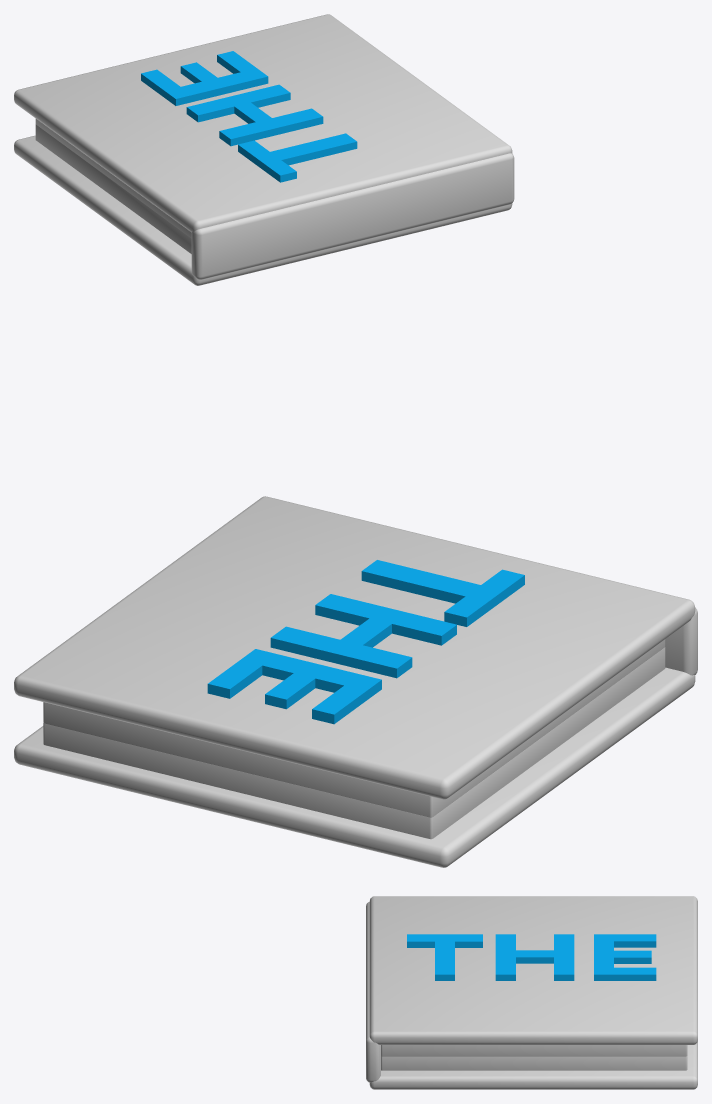
The model's file is buch_zu.gltf.
3 renders of one model, top to bottom at view 1: azimuth 30°, elevation 25°; view 2: azimuth 150°, elevation 25°; view 3: azimuth 270°, elevation 25°, orthographic. The views are drawn at different scales.
Visible parts, largest first — view 1: Würfel.1 (×2), Würfel.2, Würfel, H, E, T, Würfel.3; view 2: Würfel.1 (×2), Würfel, Würfel.3, H, E, T, Würfel.2; view 3: Würfel.1 (×2), Würfel, Würfel.3, E, H, T, Würfel.2.
Boxes of the visible parts, x1,y1,x2,y2 form: Würfel.1 (×2): (14,14,512,253); Würfel.2: (191,153,514,279); Würfel: (14,135,512,285); H: (186,84,323,146); E: (141,51,268,105); T: (238,133,357,182); Würfel.3: (35,119,191,237); Würfel.1 (×2): (14,496,695,839); Würfel: (14,667,695,867); Würfel.3: (43,639,665,817); H: (270,594,456,678); E: (207,649,381,724); T: (361,560,524,626); Würfel.2: (665,608,697,675); Würfel.1 (×2): (369,896,697,1070); Würfel: (369,1041,697,1089); Würfel.3: (381,1045,687,1056); E: (594,934,656,980); H: (495,934,574,980); T: (407,934,482,980); Würfel.2: (366,902,380,1082).
Size of what is drawn, in the model's own units: 2 by 0.4576 by 4.17.
